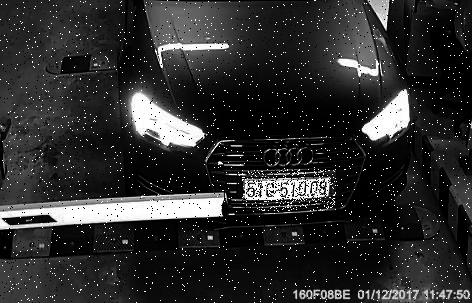License-plate: (243, 170, 337, 212)
